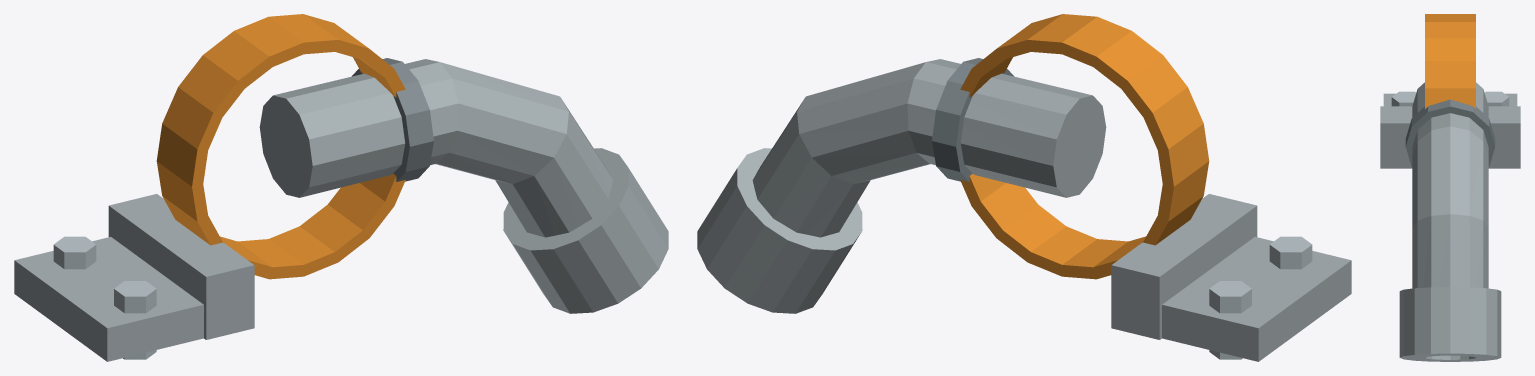
The model's file is body.obj.
The picture shows the model from 3 angles, left to right: view 1: azimuth 30°, elevation 25°; view 2: azimuth 150°, elevation 25°; view 3: azimuth 270°, elevation 25°; orthographic projection. The views are drawn at different scales.
Bounding box in the file's own units: 0.7434 × 0.4071 × 0.21.
